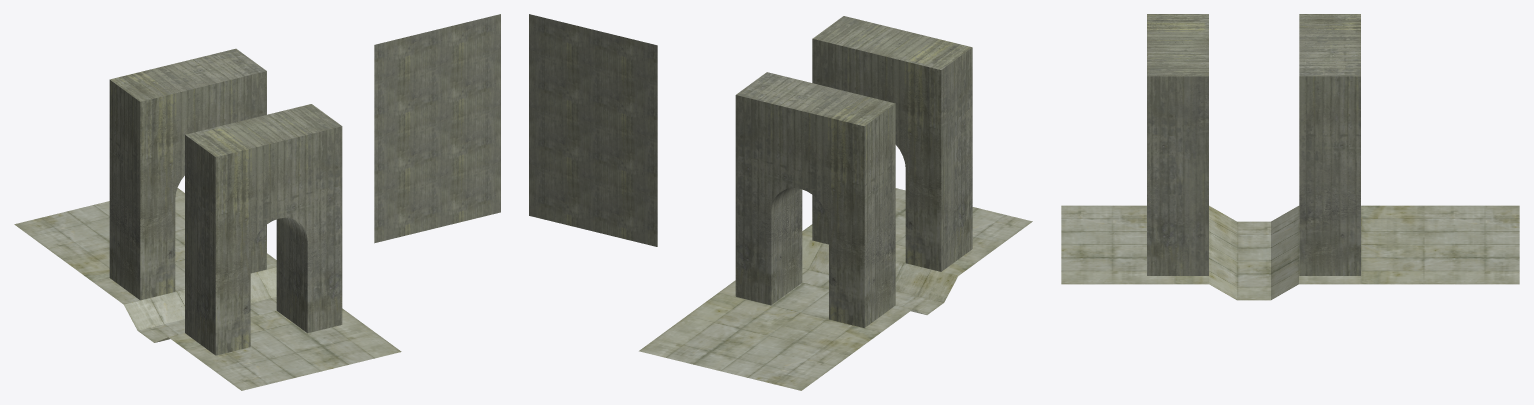
Rendered from SM_Zurbaran_Block00.fbx.
The picture shows the model from 3 angles, left to right: view 1: azimuth 30°, elevation 25°; view 2: azimuth 150°, elevation 25°; view 3: azimuth 270°, elevation 25°; orthographic projection.
Parts seen in each view (by area): view 1: SM_Zurbaran_Block00; view 2: SM_Zurbaran_Block00; view 3: SM_Zurbaran_Block00.
Boxes of the visible parts, left/top/right/bottom form: SM_Zurbaran_Block00: left=14, top=14, right=500, bottom=390; SM_Zurbaran_Block00: left=529, top=14, right=1032, bottom=390; SM_Zurbaran_Block00: left=1061, top=14, right=1519, bottom=300.
Bounding box in the file's own units: 3546 × 1925 × 3705.
